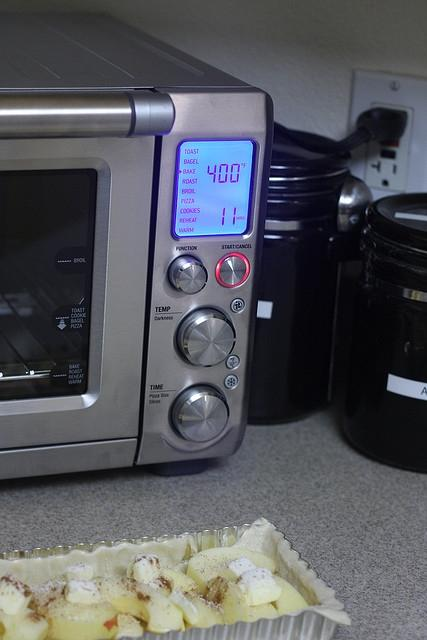apple: (186, 546, 278, 594), (131, 581, 186, 634), (48, 594, 117, 630), (203, 576, 247, 625), (0, 607, 49, 640), (44, 614, 108, 639), (272, 574, 310, 616), (184, 592, 225, 630), (166, 590, 199, 626), (111, 614, 144, 640), (246, 602, 278, 622)
